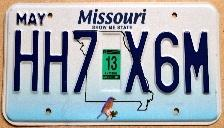6: (153, 29, 182, 94)
7: (70, 28, 100, 94)
H: (42, 28, 69, 95), (13, 28, 40, 94)
M: (183, 29, 211, 97)
X: (120, 29, 154, 94)
